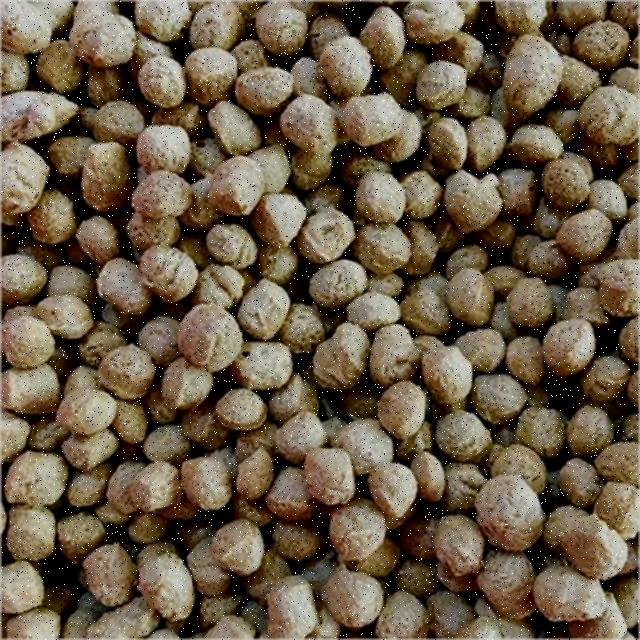Soy Chunks: (102, 63, 584, 607)
